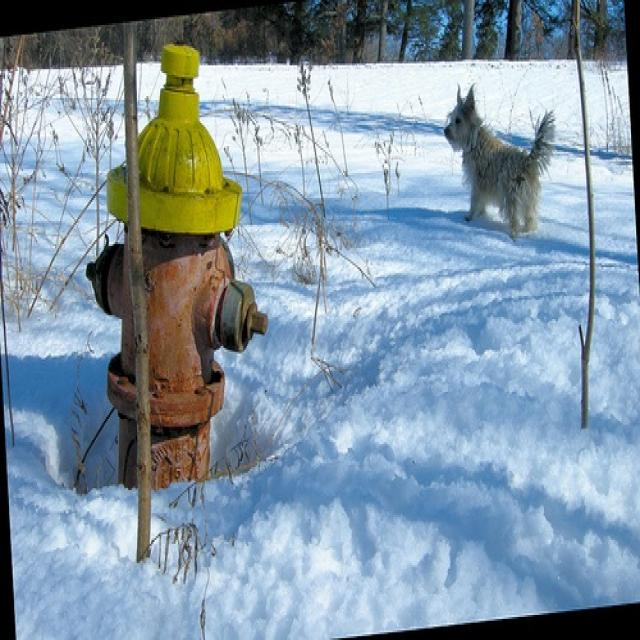dog: (442, 75, 553, 231)
fire_hydrant: (82, 37, 266, 492)
